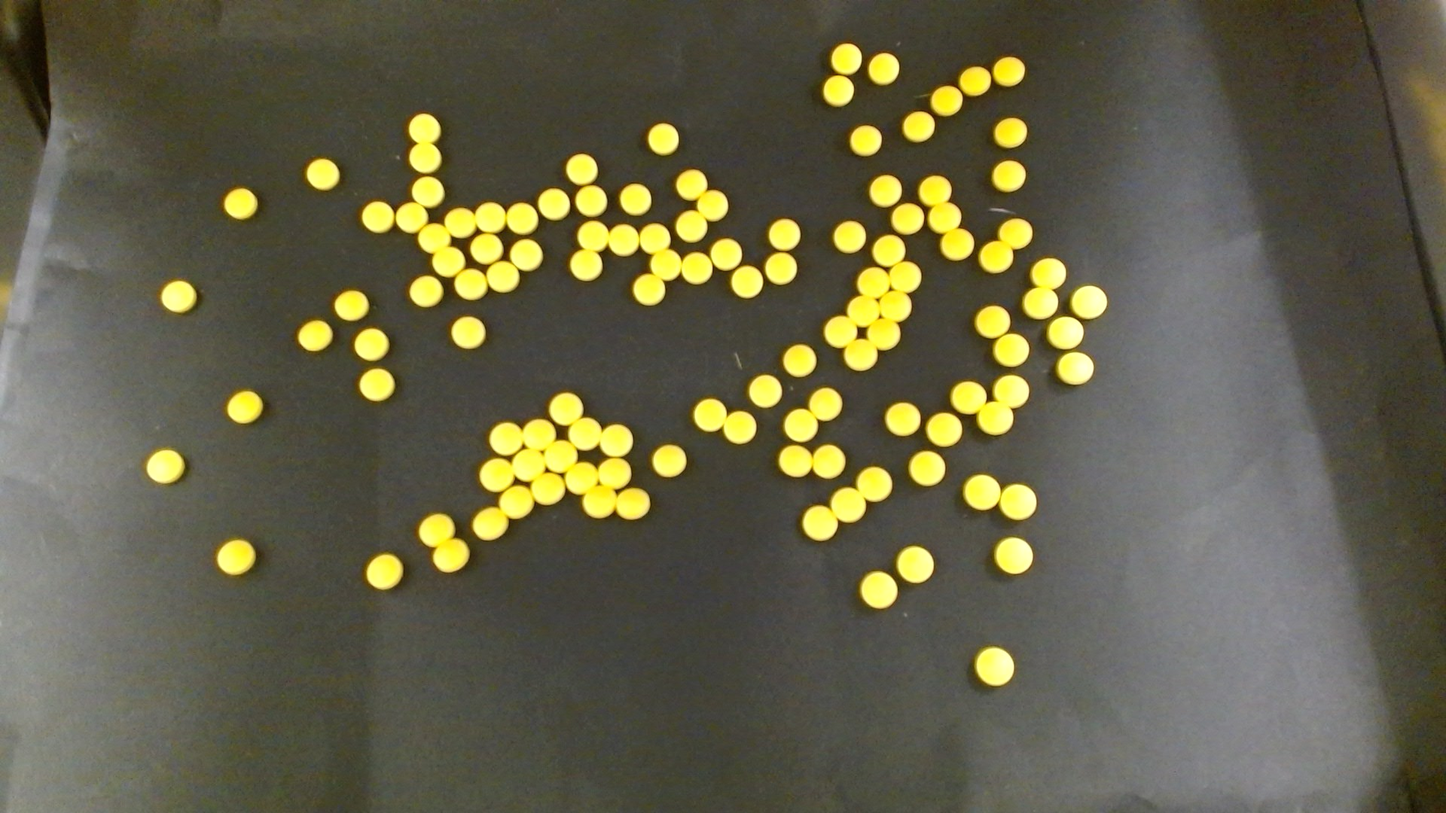Circle: (974, 646, 1014, 686), (215, 538, 256, 576), (993, 537, 1033, 575), (859, 571, 898, 609), (896, 546, 935, 583), (145, 449, 185, 485), (614, 486, 652, 523), (365, 553, 403, 590), (999, 483, 1036, 520), (962, 474, 999, 510), (801, 506, 838, 541), (977, 400, 1014, 435), (993, 332, 1030, 367), (1069, 284, 1107, 318), (1056, 352, 1095, 385), (993, 373, 1029, 408), (692, 397, 728, 432), (866, 318, 902, 353), (432, 539, 469, 573), (1047, 315, 1084, 349), (358, 367, 395, 401), (226, 391, 263, 425), (160, 279, 197, 313), (856, 467, 892, 501), (418, 513, 454, 547), (884, 402, 920, 436), (450, 315, 486, 349), (950, 380, 986, 414), (909, 451, 944, 485), (479, 458, 514, 492), (354, 327, 389, 361), (651, 443, 686, 477), (472, 507, 508, 540), (222, 187, 258, 220), (304, 157, 340, 190), (812, 444, 846, 478), (926, 413, 961, 446), (777, 445, 812, 478), (297, 319, 332, 352), (975, 305, 1010, 338), (992, 159, 1027, 192), (1023, 286, 1059, 318), (831, 489, 865, 522), (531, 472, 565, 505), (359, 200, 393, 233), (549, 392, 582, 426), (809, 388, 843, 421), (489, 422, 523, 455), (410, 175, 444, 208), (334, 289, 369, 321), (1030, 257, 1066, 288), (765, 252, 798, 285), (749, 374, 782, 407), (569, 248, 602, 281), (499, 486, 532, 519), (782, 344, 815, 377), (848, 124, 881, 157), (512, 449, 545, 482), (829, 42, 862, 75), (783, 410, 817, 442), (408, 275, 442, 307), (723, 412, 756, 444), (844, 338, 877, 370), (941, 228, 974, 260), (979, 240, 1012, 272), (833, 220, 866, 252), (646, 122, 679, 154), (582, 485, 616, 516), (597, 457, 631, 488), (901, 111, 935, 142), (993, 117, 1027, 148), (407, 112, 441, 143), (856, 266, 890, 297), (632, 273, 664, 305), (454, 268, 486, 300), (565, 461, 597, 493), (680, 252, 712, 284), (509, 239, 541, 271), (869, 174, 901, 206), (568, 417, 600, 449), (767, 218, 800, 249), (823, 316, 856, 347), (486, 260, 517, 293), (872, 234, 905, 265), (891, 202, 924, 233), (999, 218, 1033, 248), (600, 424, 632, 455), (544, 440, 576, 471), (619, 183, 651, 214), (676, 168, 708, 199), (696, 190, 728, 221), (958, 65, 990, 96), (523, 418, 555, 449), (538, 188, 569, 220), (822, 75, 854, 106), (395, 201, 427, 232), (417, 222, 449, 253), (575, 184, 606, 216), (920, 175, 953, 205), (408, 142, 441, 172), (711, 239, 742, 270), (889, 260, 920, 291), (566, 153, 597, 184), (868, 53, 899, 84), (471, 232, 502, 263), (928, 202, 959, 233), (993, 56, 1024, 87), (433, 246, 464, 277), (577, 220, 608, 251), (474, 202, 505, 233), (847, 294, 879, 324), (731, 267, 761, 298), (676, 211, 706, 242), (639, 223, 670, 253), (880, 291, 911, 321), (649, 248, 679, 279), (506, 202, 536, 232), (609, 224, 639, 254), (932, 87, 962, 116), (445, 208, 475, 237)
